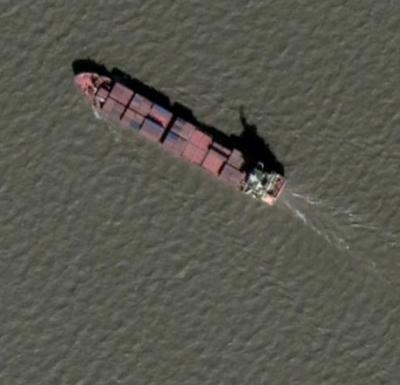Boat: (43, 48, 301, 222)
